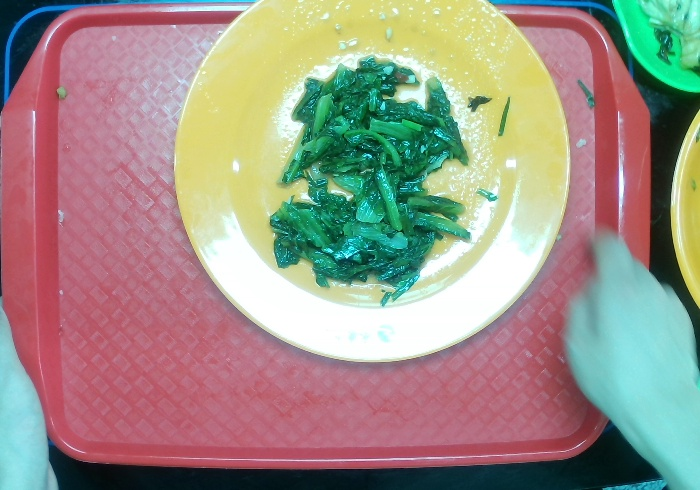YKMZ-Ju_Se_Mian_Pan: (163, 1, 592, 374)
